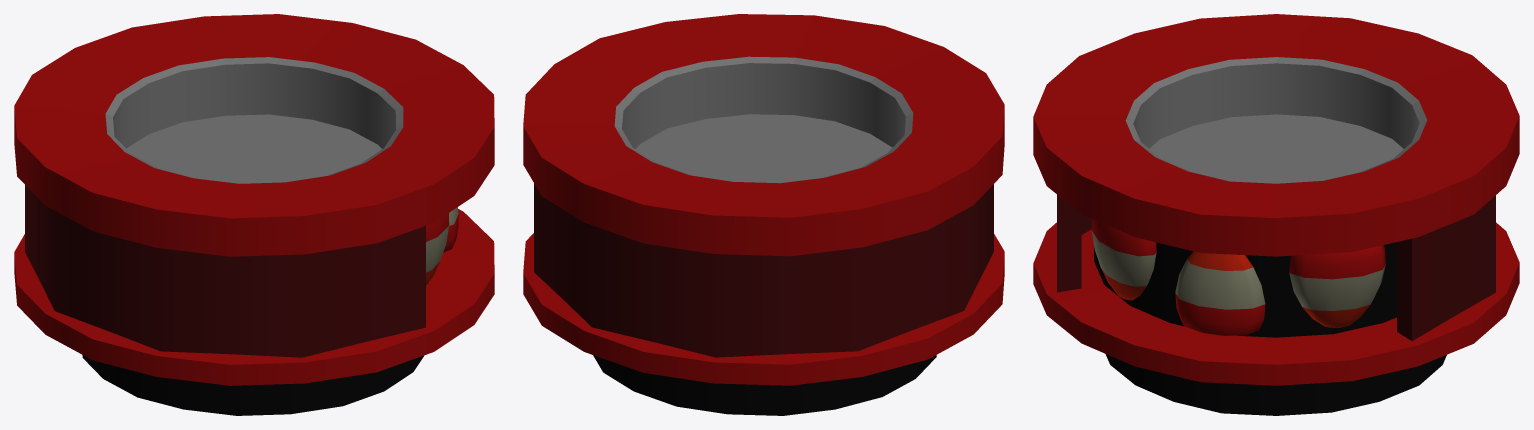
File: SM_Element_Red.fbx
The picture shows the model from 3 angles, left to right: view 1: azimuth 30°, elevation 25°; view 2: azimuth 150°, elevation 25°; view 3: azimuth 270°, elevation 25°; orthographic projection.
Parts seen in each view (by area): view 1: SM_Element_Red; view 2: SM_Element_Red; view 3: SM_Element_Red.
Boxes of the visible parts, box(x1,y1,x2,y2) form: SM_Element_Red: box(14, 14, 494, 415); SM_Element_Red: box(523, 14, 1004, 415); SM_Element_Red: box(1033, 14, 1519, 415).
Bounding box in the file's own units: 1.98 × 1.02 × 1.99.
